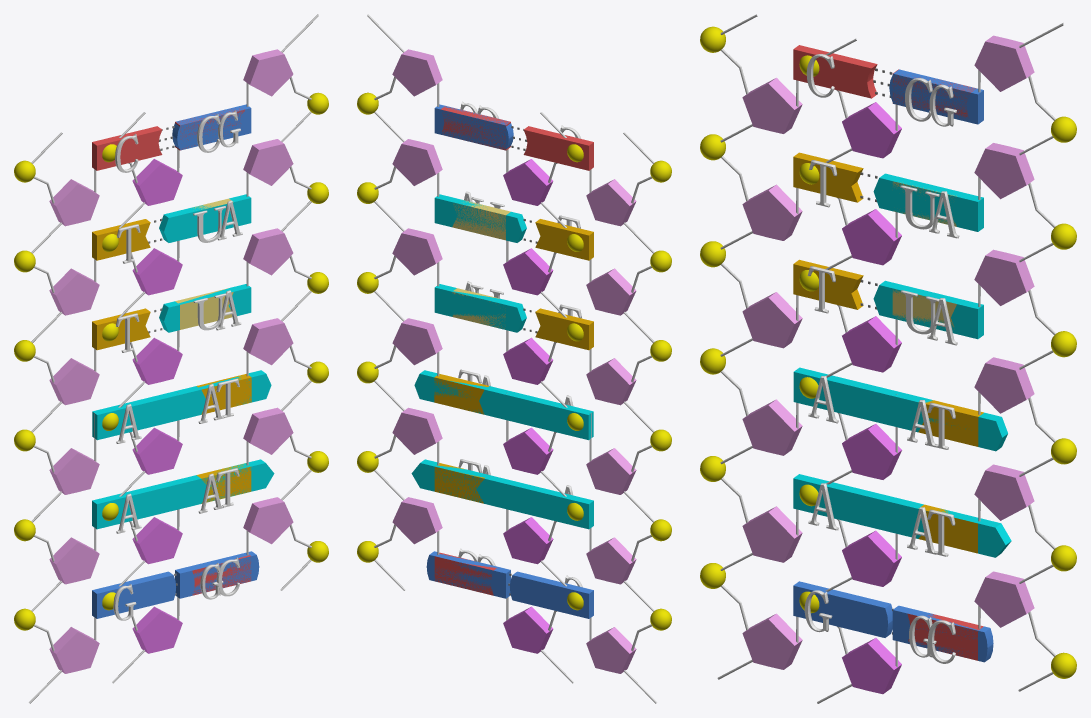
Rendered from huaxuezucheng.gltf.
3 renders of one model, left to right at view 1: azimuth 30°, elevation 25°; view 2: azimuth 150°, elevation 25°; view 3: azimuth 330°, elevation 25°, orthographic. The views are drawn at different scales.
Parts seen in each view (by area): view 1: hxzc_dna, hxzc_rna; view 2: hxzc_dna, hxzc_rna; view 3: hxzc_dna, hxzc_rna.
Boxes of the visible parts, x1,y1,x2,y2 form: hxzc_dna: [14, 14, 328, 703]; hxzc_rna: [102, 108, 274, 683]; hxzc_dna: [357, 14, 671, 703]; hxzc_rna: [411, 105, 583, 683]; hxzc_dna: [700, 14, 1076, 691]; hxzc_rna: [799, 38, 1011, 703].
Bounding box in the file's own units: 0.527 × 0.9993 × 0.0369.
